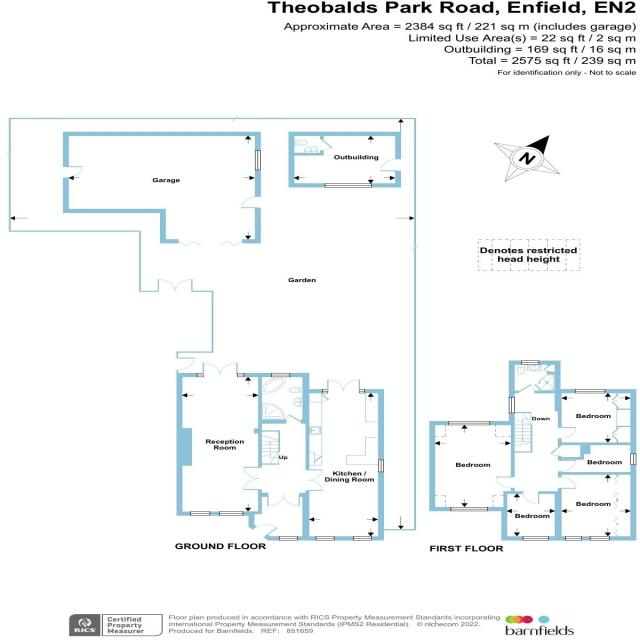DOOR: (251, 524, 279, 538), (495, 476, 515, 489), (522, 491, 540, 505), (557, 477, 577, 489), (558, 460, 577, 472), (557, 427, 576, 439), (285, 414, 301, 424), (518, 384, 535, 393)
DOUBLE DOOR: (201, 361, 239, 377), (326, 376, 361, 393), (266, 492, 302, 508), (242, 465, 263, 491), (306, 466, 323, 493)
ROOM: (302, 379, 384, 541), (176, 362, 262, 516), (429, 421, 515, 511), (555, 472, 636, 540), (554, 389, 636, 445), (501, 491, 562, 541), (558, 442, 636, 475)
WINDOW: (447, 421, 491, 425), (450, 507, 489, 511), (522, 536, 549, 541), (574, 389, 606, 393), (219, 511, 244, 516), (508, 397, 515, 414), (589, 536, 610, 541), (278, 536, 299, 541), (315, 536, 335, 541), (190, 511, 210, 516), (521, 360, 540, 365), (353, 536, 372, 541), (378, 459, 385, 472), (565, 536, 582, 541), (630, 453, 637, 465), (270, 373, 291, 377)
